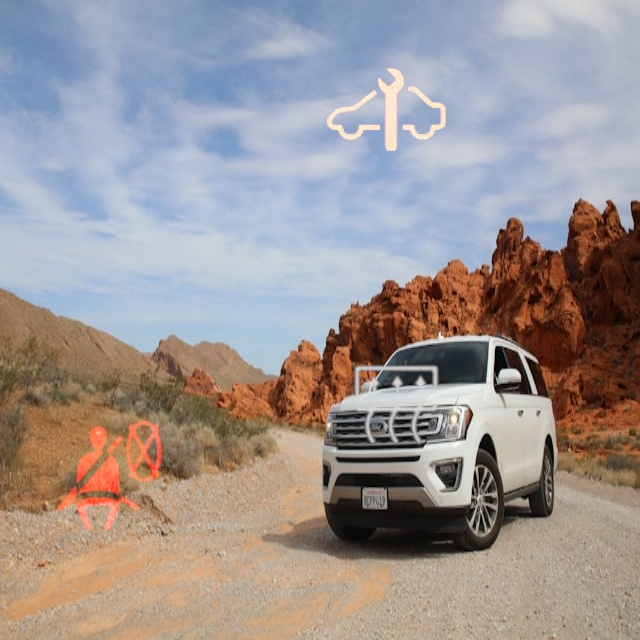symbol: (306, 32, 465, 191), (320, 330, 474, 484), (33, 399, 187, 553)
